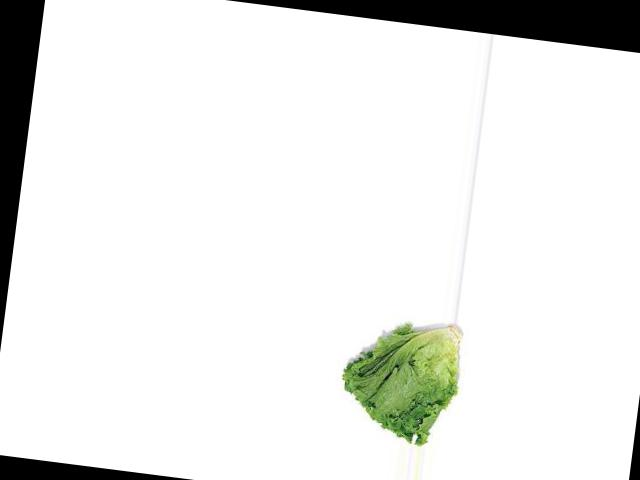lettuce: (307, 278, 473, 438)
